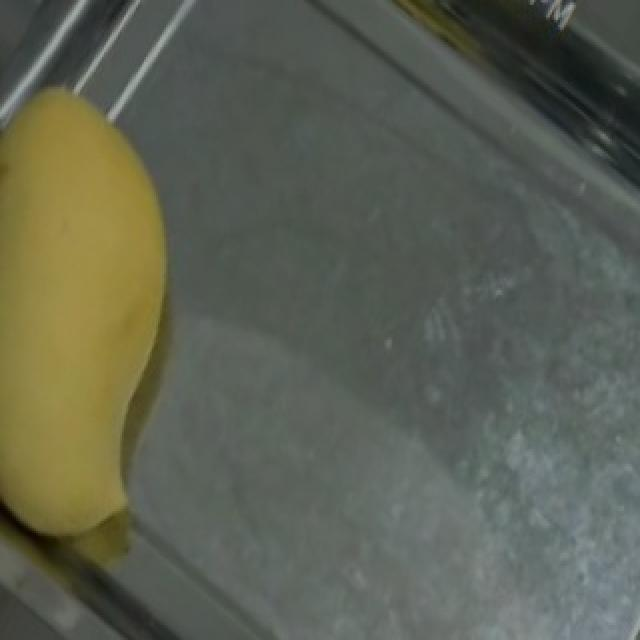fruit: (0, 47, 256, 474)
